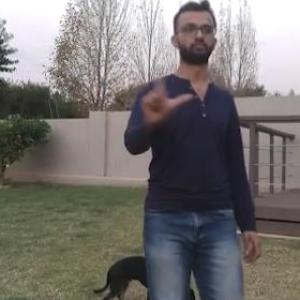land_hand: (135, 62, 192, 123)
